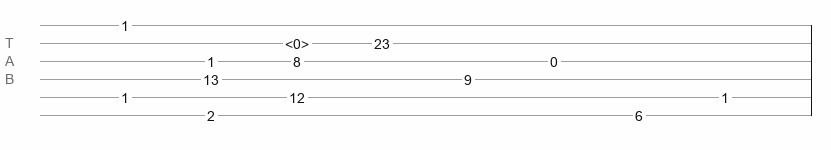0: (550, 54, 558, 64)
1: (121, 90, 129, 100), (121, 18, 129, 28), (207, 54, 215, 64), (721, 90, 729, 100)
12: (289, 90, 305, 100)
13: (203, 72, 219, 82)
2: (207, 108, 215, 118)
23: (374, 36, 390, 46)
6: (635, 108, 643, 118)
8: (293, 54, 301, 64)
9: (464, 72, 472, 82)
harmonic: (285, 36, 309, 46)
